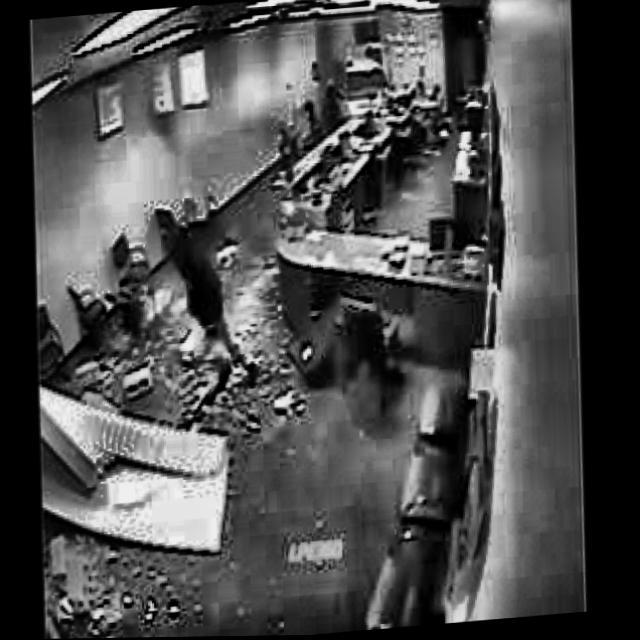Weapon: (144, 186, 318, 420)
